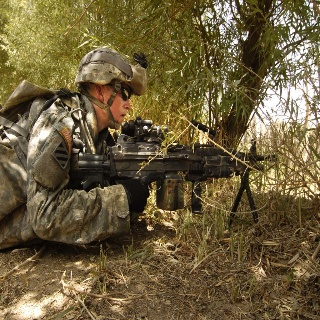rifle: (69, 115, 277, 228)
